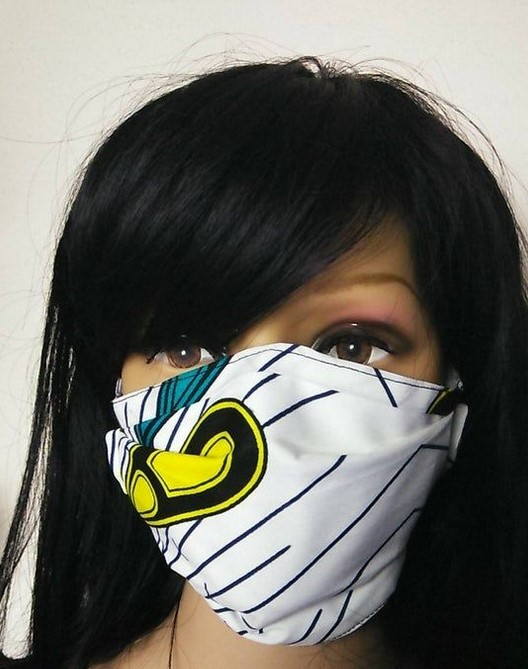face_with_mask: (98, 166, 457, 603)
